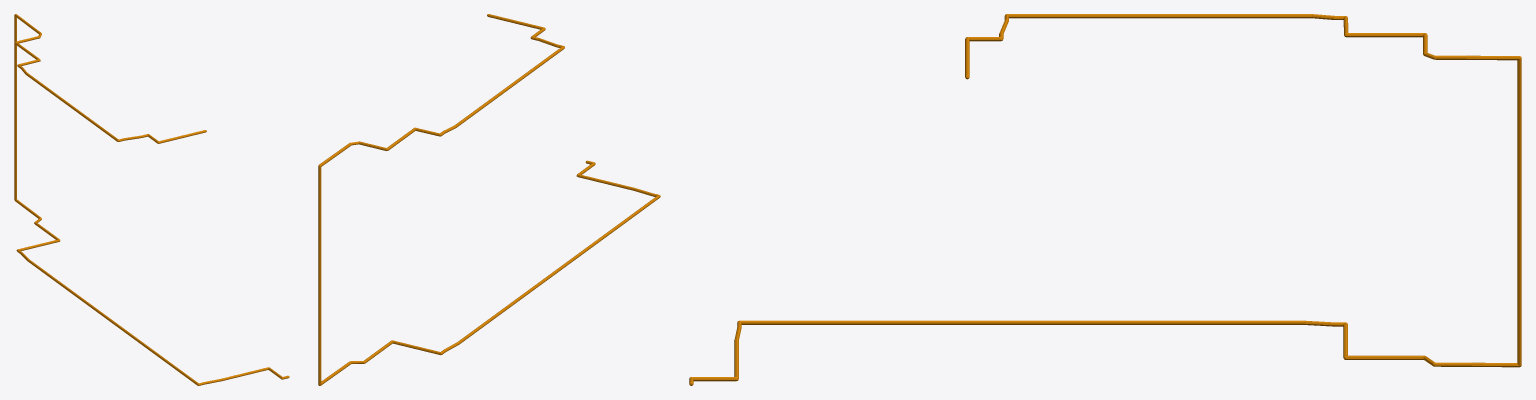
3 renders of one model, left to right at view 1: azimuth 30°, elevation 25°; view 2: azimuth 150°, elevation 25°; view 3: azimuth 270°, elevation 25°, orthographic. The views are drawn at different scales.
Size of the model in its own units: 663 by 1520 by 3687.
